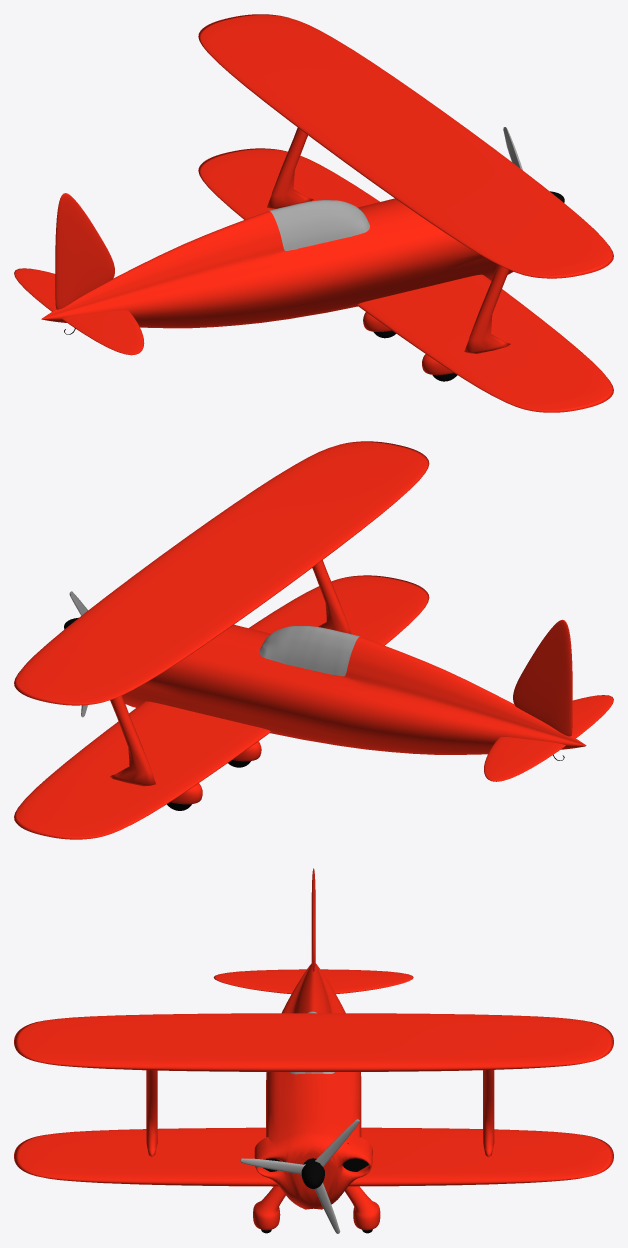
3 views of the same model, one above another, from view 1: azimuth 30°, elevation 25°; view 2: azimuth 150°, elevation 25°; view 3: azimuth 270°, elevation 25° (orthographic). The views are drawn at different scales.
Visible parts, largest first — view 1: Plane.002, Circle, Plane.005, Plane.001, Plane.003, Plane.004, Cube; view 2: Plane.002, Circle, Plane.005, Plane.001, Plane.004, Plane.003, Cube; view 3: Plane.002, Circle, Plane.005, Cube, Circle.002, Plane.004, Plane.003, Mesh.
Boxes of the visible parts, box(x1,y1,x2,y2) form: Plane.002: box(198, 14, 613, 412); Circle: box(41, 198, 513, 328); Plane.005: box(14, 193, 144, 355); Plane.001: box(267, 200, 369, 250); Plane.003: box(464, 264, 510, 353); Plane.004: box(267, 127, 313, 208); Cube: box(363, 312, 453, 375); Plane.002: box(14, 441, 429, 839); Circle: box(122, 624, 586, 754); Plane.005: box(484, 619, 613, 781); Plane.001: box(259, 626, 362, 676); Plane.004: box(110, 695, 155, 786); Plane.003: box(312, 560, 351, 634); Cube: box(170, 741, 261, 804); Plane.002: box(14, 1013, 613, 1186); Circle: box(254, 963, 372, 1209); Plane.005: box(213, 868, 413, 994); Cube: box(253, 1186, 380, 1230); Circle.002: box(240, 1119, 359, 1233); Plane.004: box(483, 1070, 494, 1157); Plane.003: box(146, 1070, 157, 1156); Mesh: box(301, 1159, 324, 1188).
Size of the model in its own units: 1223 by 567 by 1426.
